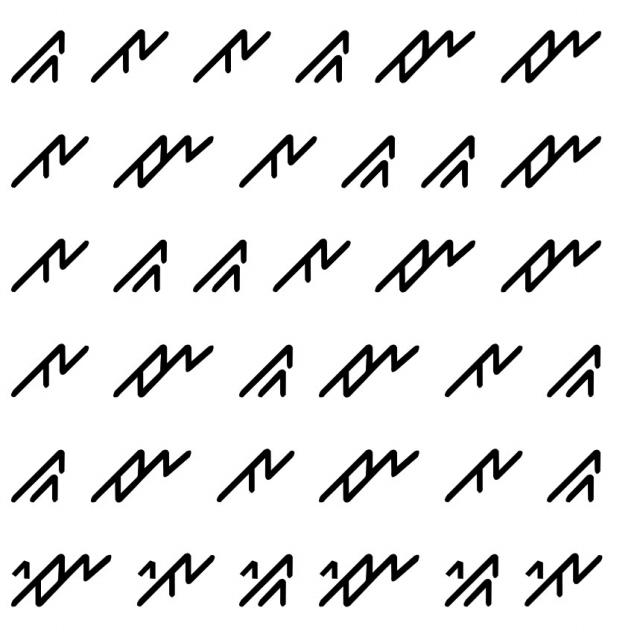a: (262, 227, 356, 300), (203, 441, 298, 513), (435, 336, 529, 406), (434, 439, 529, 506), (8, 121, 92, 192), (189, 19, 272, 90), (234, 122, 317, 191), (88, 22, 174, 88), (9, 331, 90, 399), (8, 231, 91, 293)
i: (515, 540, 603, 613), (128, 539, 218, 609)
ngga: (230, 341, 304, 412), (543, 338, 606, 412), (328, 126, 396, 194), (187, 231, 255, 298), (413, 130, 480, 197), (5, 24, 70, 93), (541, 445, 606, 511), (290, 28, 360, 88), (110, 234, 174, 299), (9, 445, 70, 509)
nggi: (227, 549, 298, 616), (440, 544, 503, 614)
nja: (316, 326, 424, 408), (368, 222, 478, 300), (105, 332, 217, 408), (498, 126, 605, 203), (498, 228, 606, 304), (310, 442, 424, 514), (370, 20, 476, 97), (105, 125, 216, 198), (491, 18, 606, 87), (84, 437, 192, 510)
nji: (8, 536, 116, 618), (312, 540, 422, 620)
